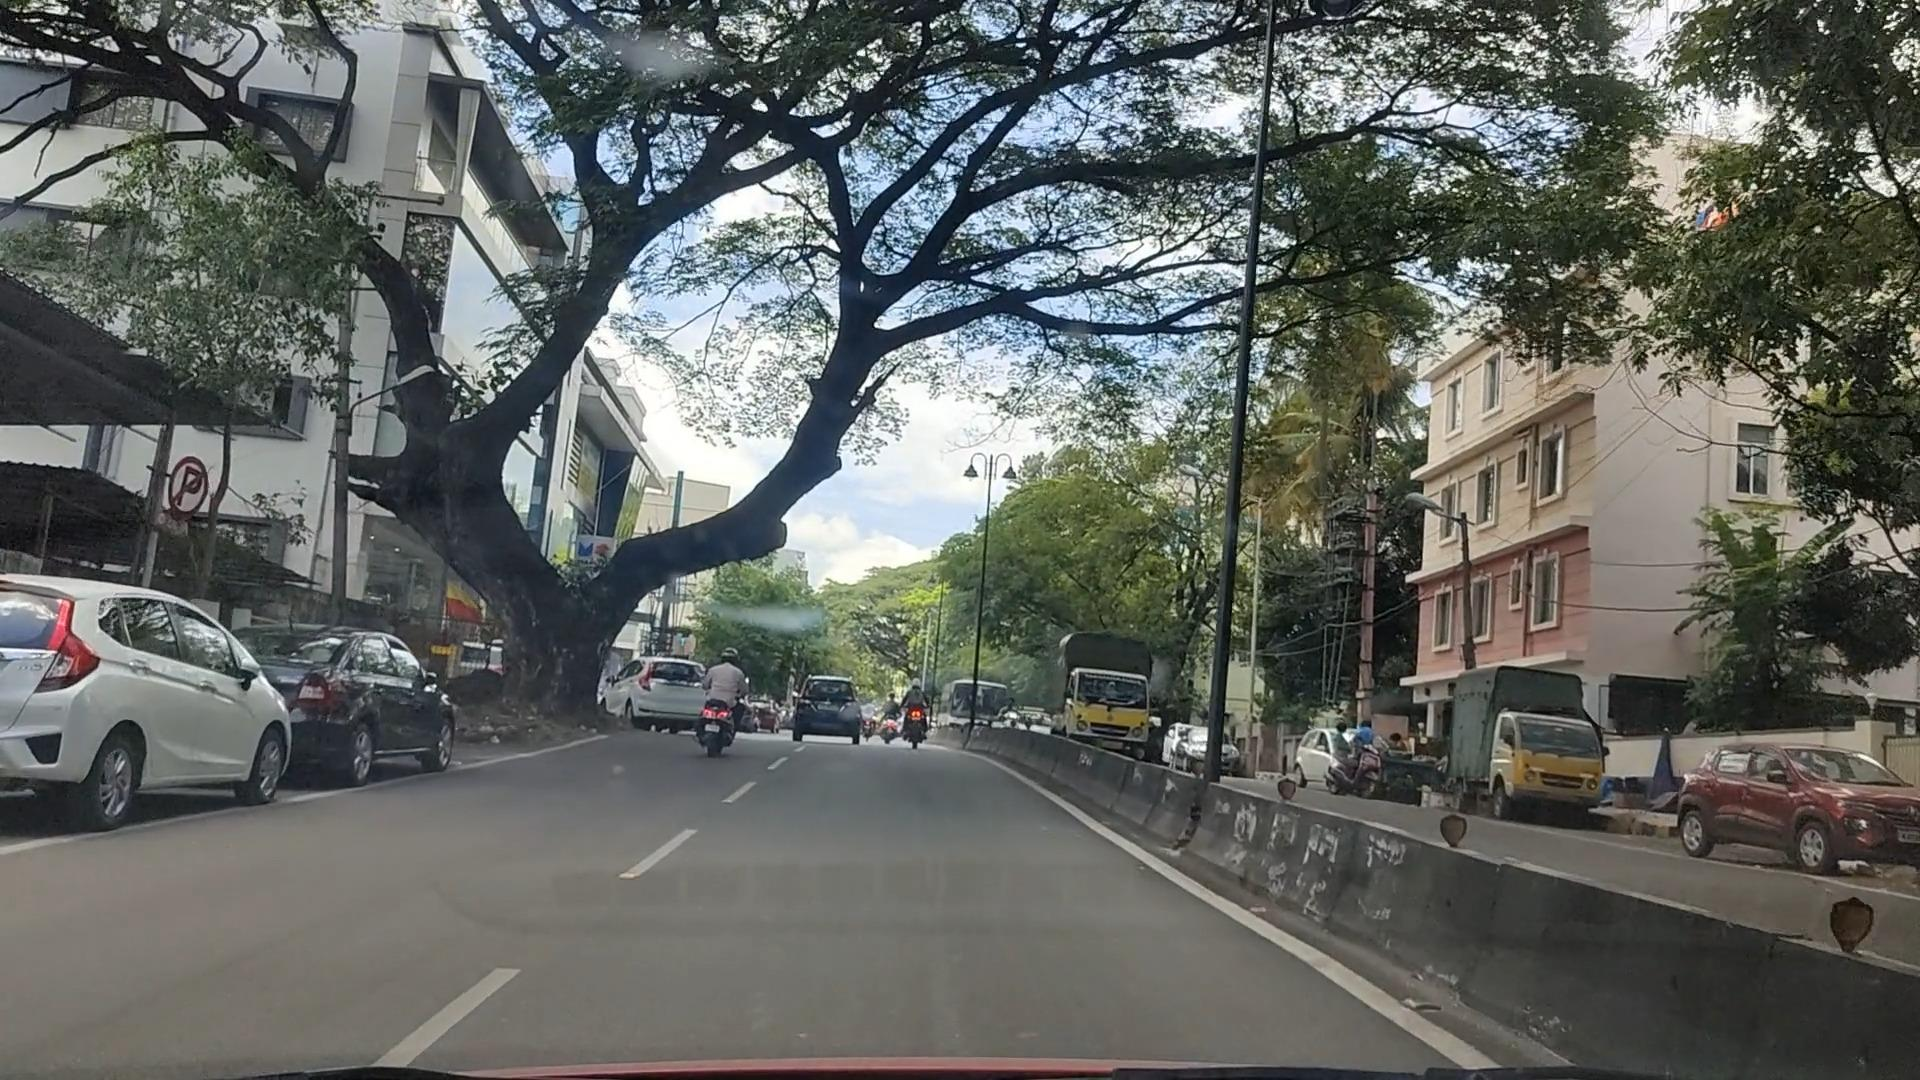LMV: (286, 636, 459, 790)
